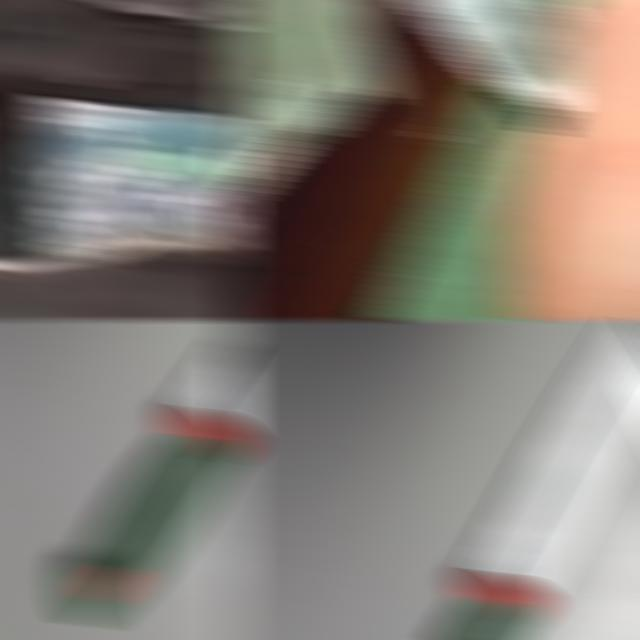Knife: (445, 324, 640, 640), (59, 344, 247, 628), (404, 0, 580, 122)
Knife_Handle: (225, 0, 640, 321)
